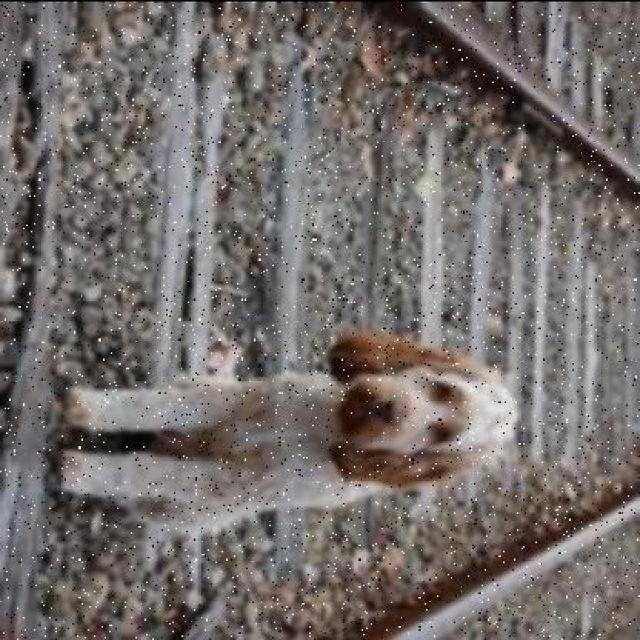danger: (22, 332, 510, 542)
rail: (0, 3, 640, 638)
